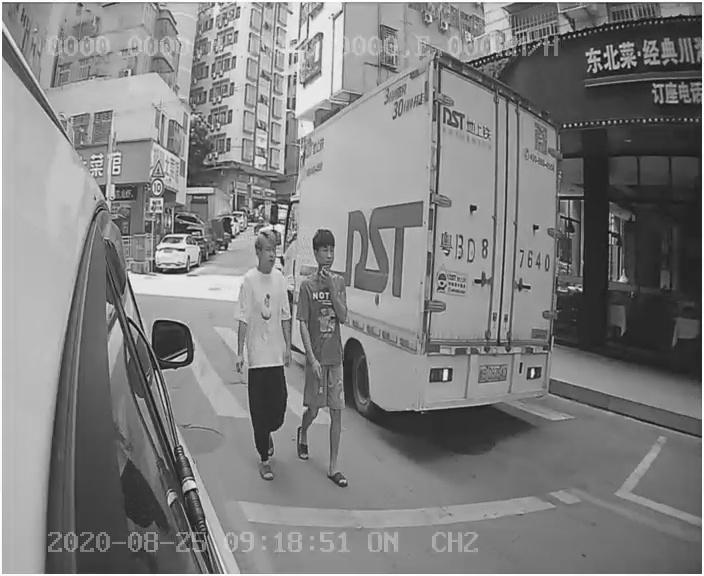person: (293, 229, 379, 487), (221, 229, 304, 486)
